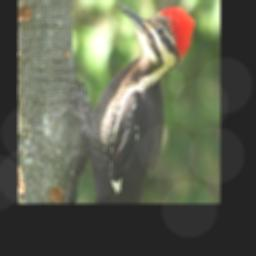Woodpecker: (70, 1, 194, 202)
